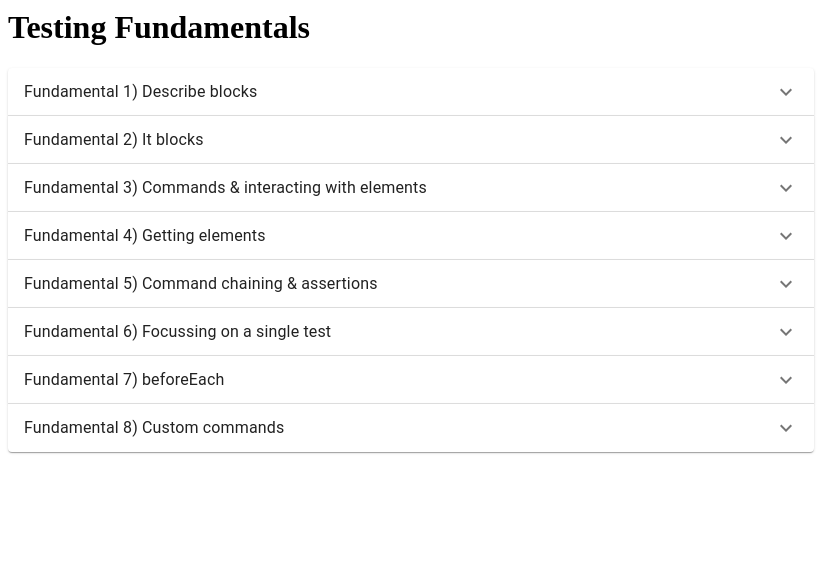
Test: fundamentals tests › Accordion functions properly
Expected: the text "Your tests will exist in a describe block." is not shown
Click the button with test id "accordion-item-1": (141, 91) [24,80,798,104]
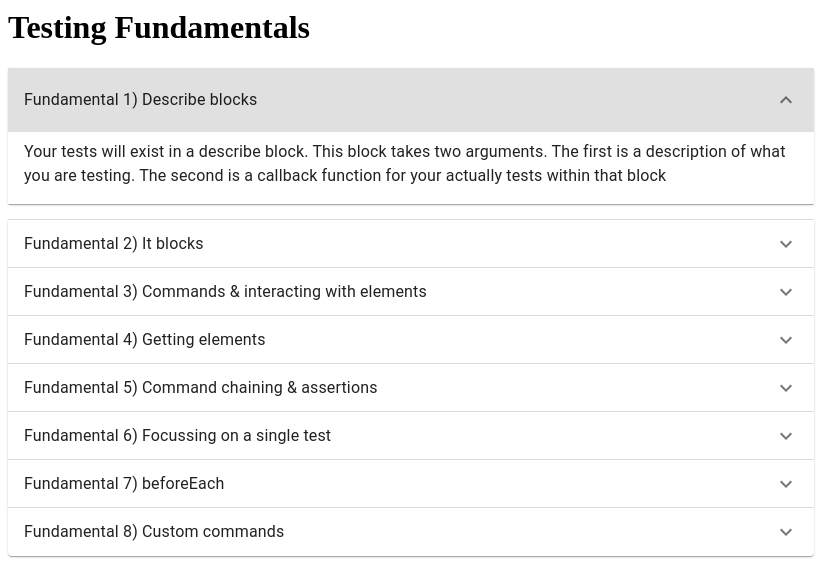
Now the text "Your tests will exist in a describe block." is shown, box [24,142,786,185]
Click the button with test id "accordion-item-1": (141, 99) [8,68,814,132]
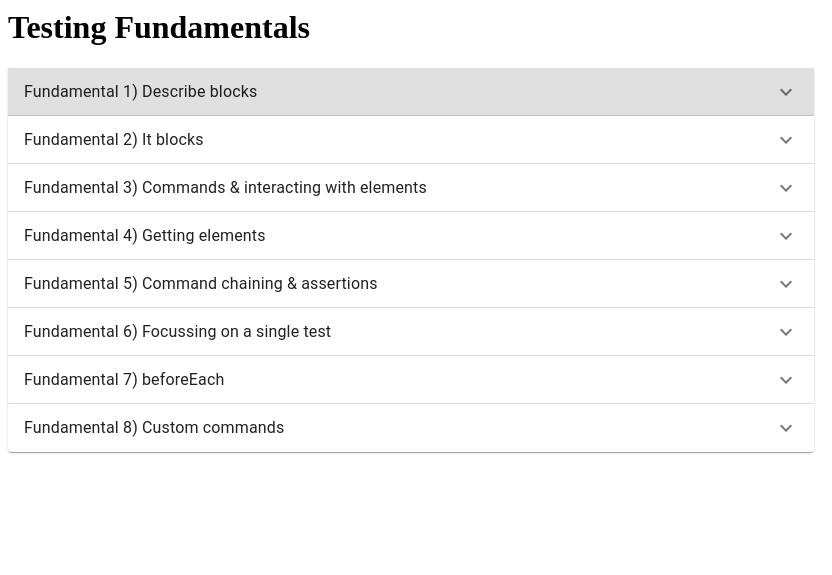
Now the text "Your tests will exist in a describe block." is gone
